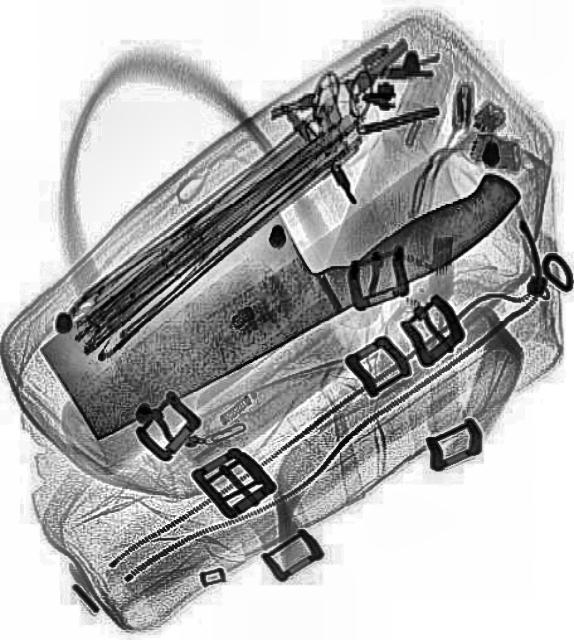Knife: (28, 98, 528, 446)
